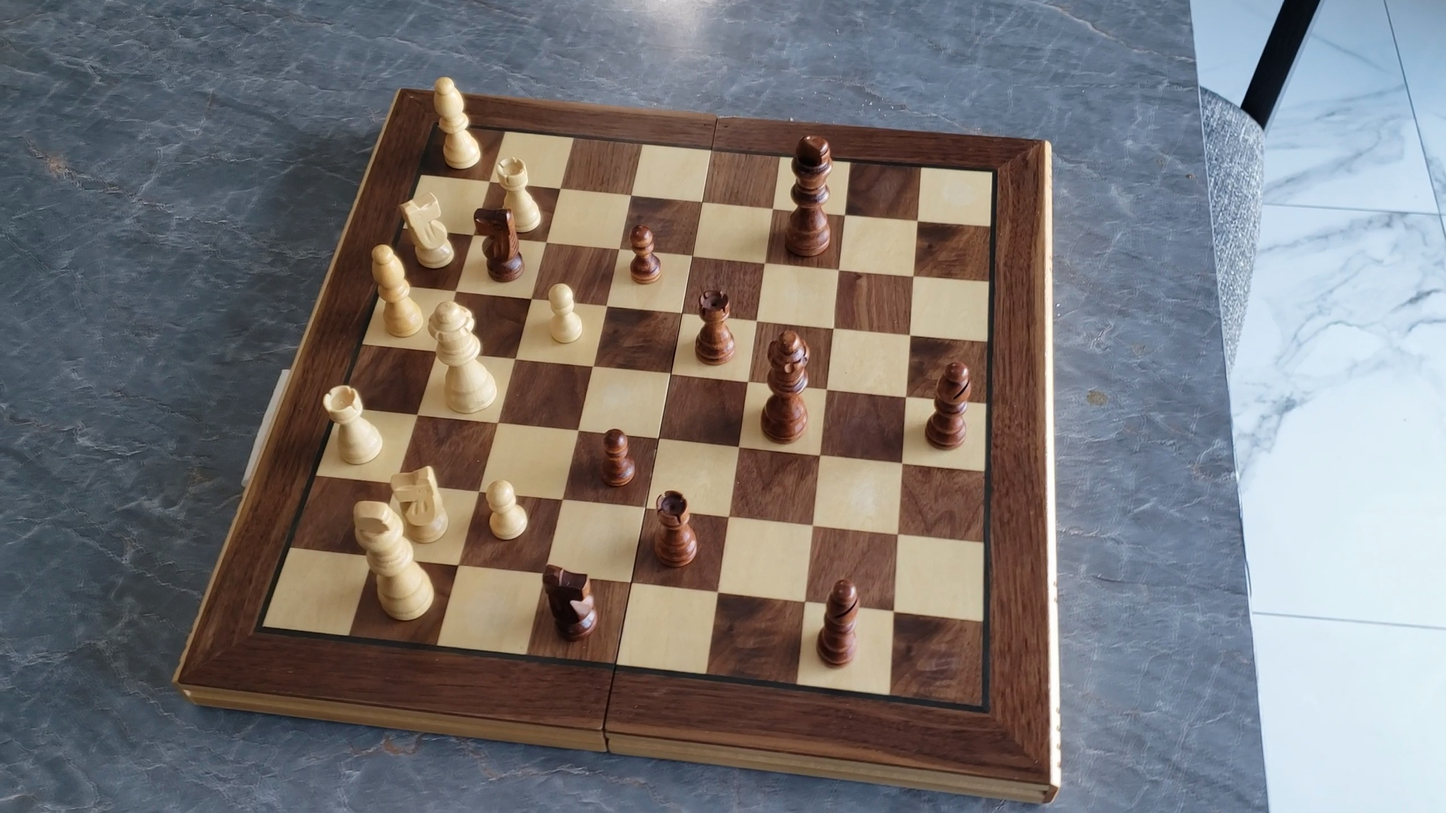black-bishop: (813, 563, 864, 683), (924, 358, 974, 451)
black-king: (785, 130, 836, 259)
black-knight: (539, 562, 602, 643), (474, 203, 527, 283)
black-pawn: (598, 424, 638, 490), (626, 220, 664, 287)
black-queen: (759, 328, 813, 445)
black-rook: (651, 488, 700, 570), (692, 286, 739, 366)
white-bishop: (366, 241, 428, 341), (428, 72, 484, 173)
white-king: (347, 499, 441, 625)
white-knight: (386, 462, 454, 547), (397, 191, 459, 273)
white-pawn: (481, 476, 532, 544), (542, 279, 589, 348)
white-queen: (425, 300, 505, 418)
white-rook: (320, 382, 387, 468), (493, 152, 546, 237)
